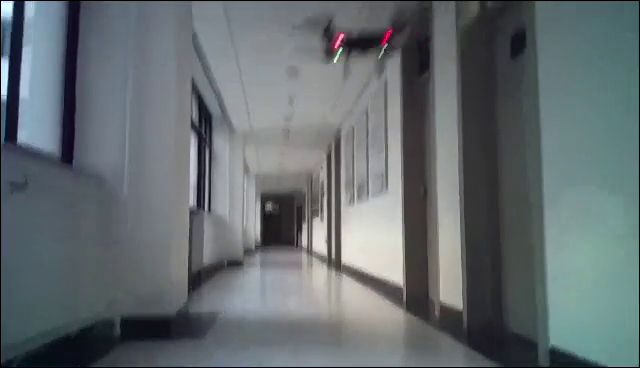drone: (293, 9, 419, 81)
